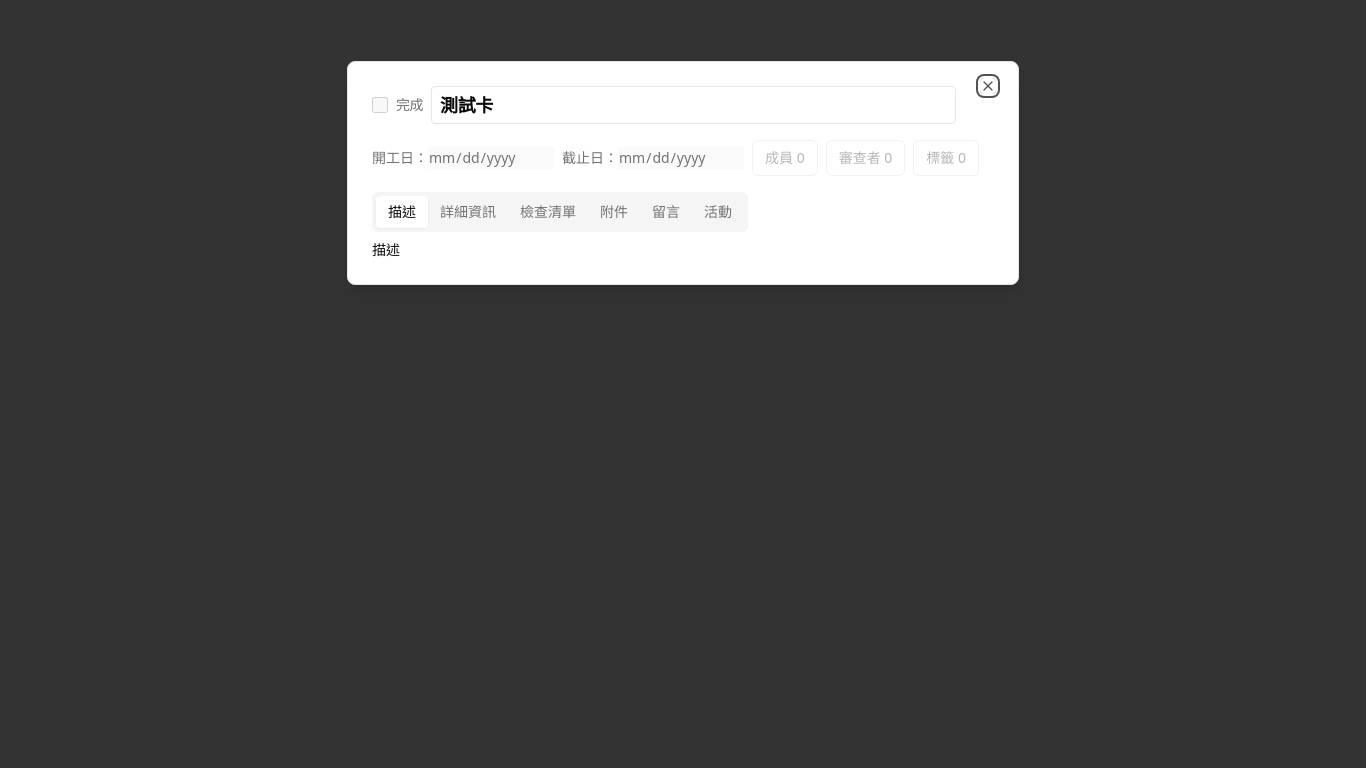
Test: 自訂欄位無編輯權限 affordance（R10） › select/checkbox/date/member 停用態有 aria-disabled、title 與唯讀標示
Expected: the field showing "測試卡" is shown, [431,86,956,124]
Press the mouse on the tab "詳細資訊" at (468, 212), box [428,196,508,228]
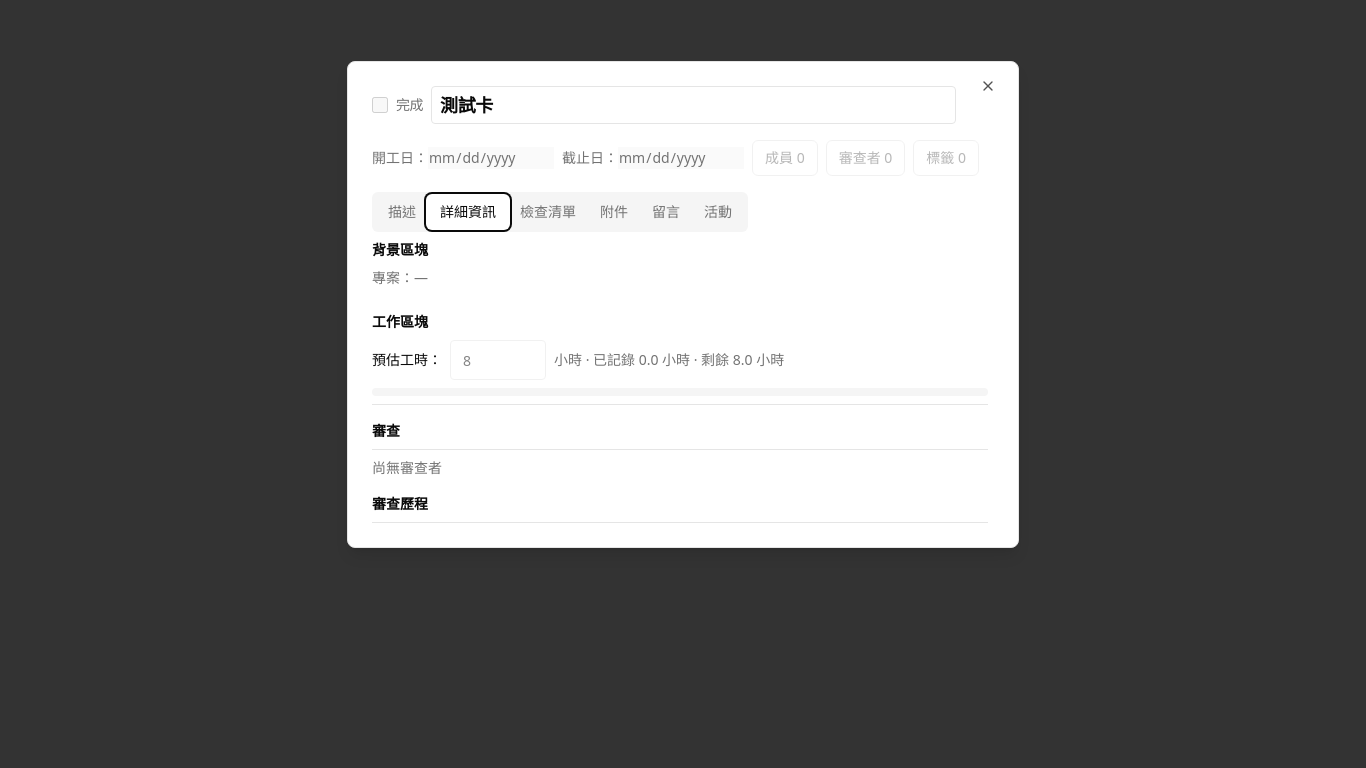
Click the tab "詳細資訊" at (468, 212), box [428,196,508,228]
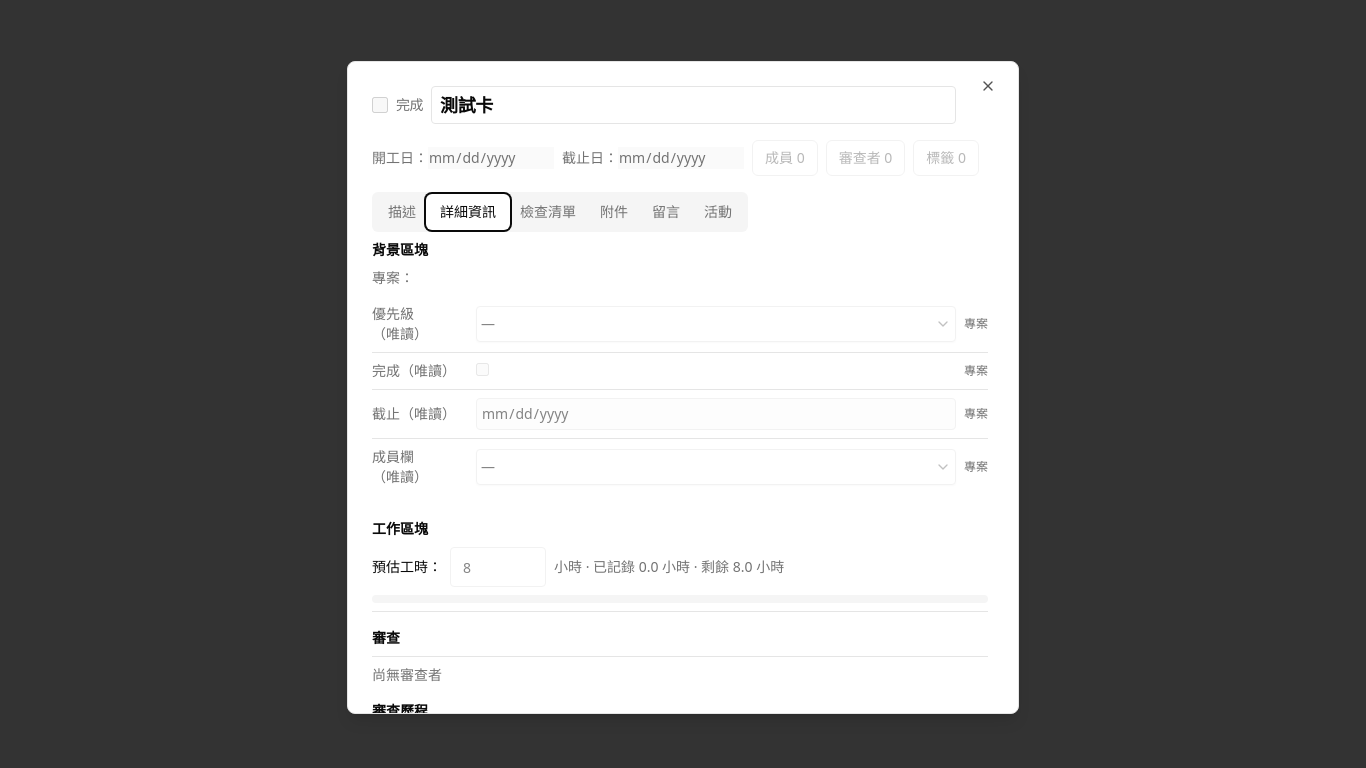
Now the number of dropdowns is 2, box [476,306,956,342]; [476,449,956,485]
Now the dropdown labelled "—" in the row of "優先級" is disabled, box [476,306,956,342]
Now the dropdown labelled "—" in the row of "成員欄" is disabled, box [476,449,956,485]
